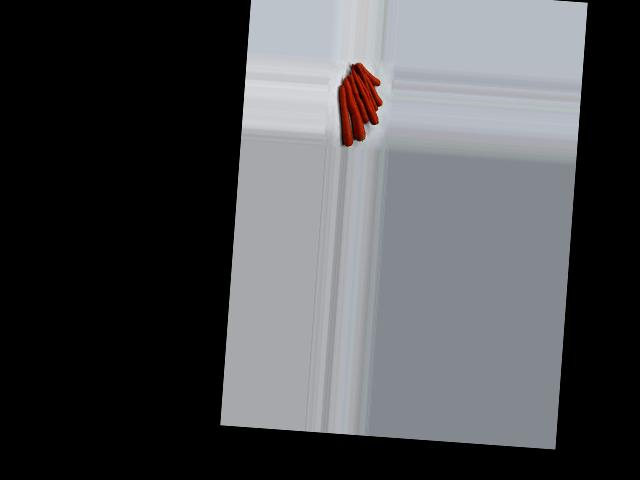carrot: (351, 60, 386, 85)
